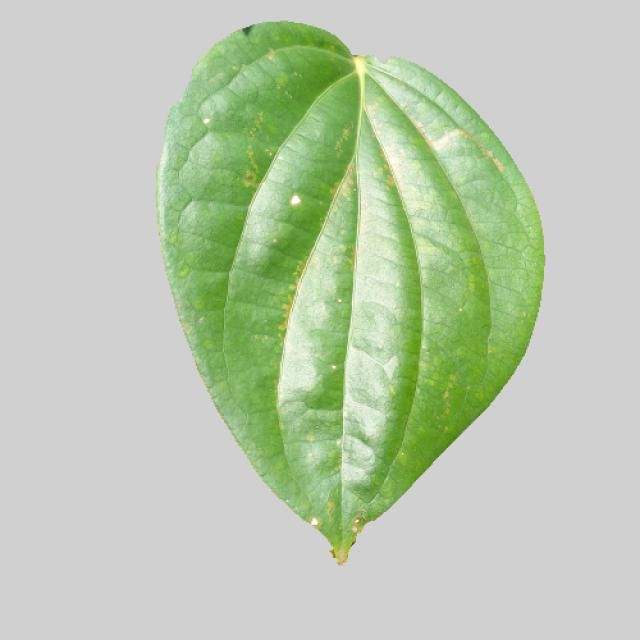healthy: (152, 18, 552, 576)
